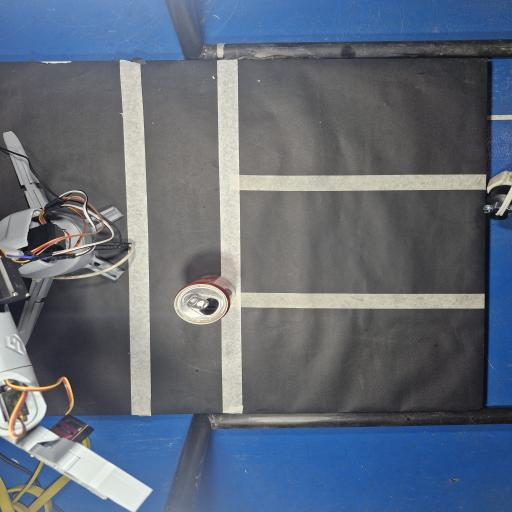lata: (175, 275, 235, 325)
